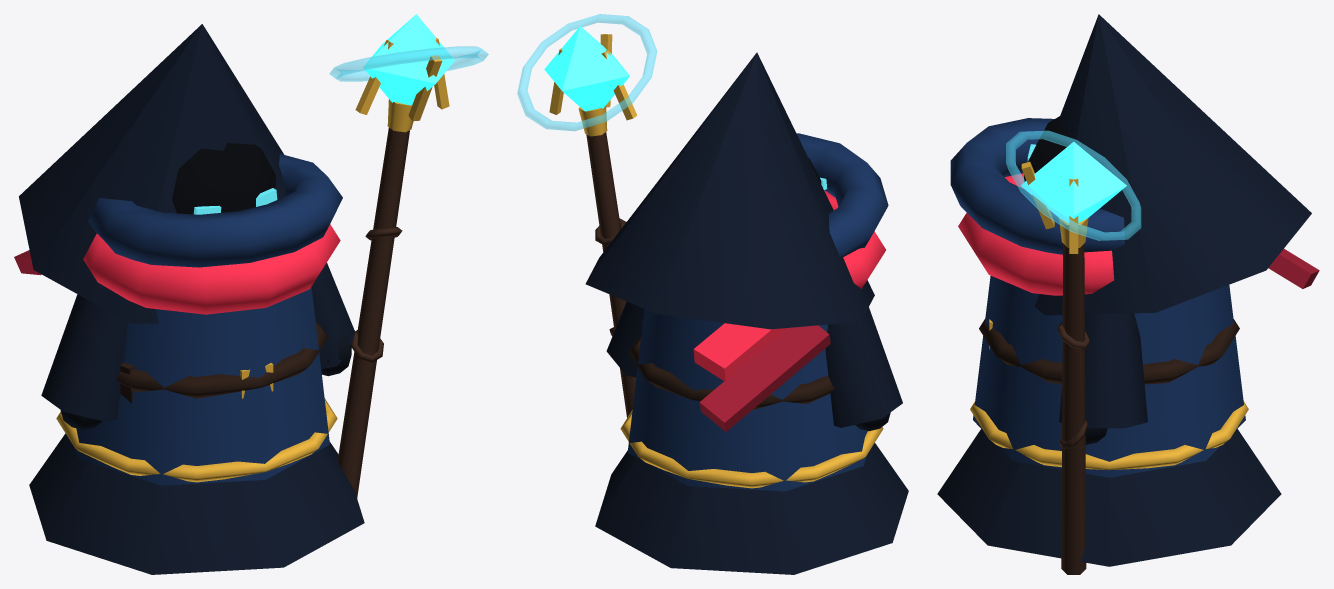
File: shadow.glb
3 renders of one model, left to right at view 1: azimuth 30°, elevation 25°; view 2: azimuth 150°, elevation 25°; view 3: azimuth 270°, elevation 25°, orthographic. The views are drawn at different scales.
Visible parts, largest first — view 1: hero_shadow, hero_staff; view 2: hero_shadow, hero_staff; view 3: hero_shadow, hero_staff.
Part boxes in pixels (box(x1,y1,x2,y2)): hero_shadow: box(14, 24, 364, 574); hero_staff: box(329, 14, 488, 498); hero_shadow: box(585, 52, 908, 574); hero_staff: box(517, 14, 657, 417); hero_shadow: box(937, 14, 1319, 566); hero_staff: box(1006, 130, 1141, 574).
Size of the model in its own units: 1.6 by 1.84 by 1.29.
